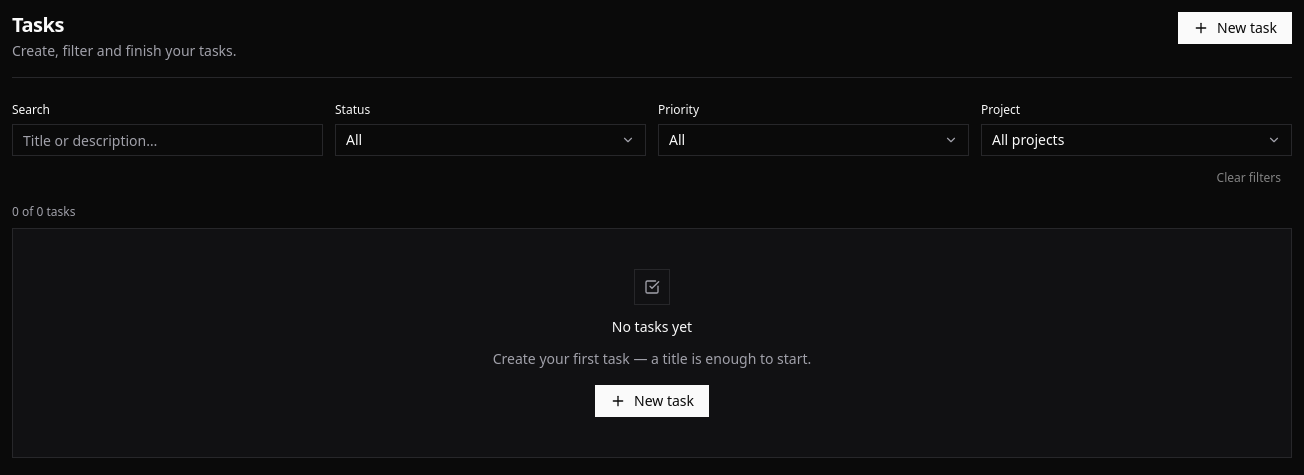
Test: TasksPage search debounce › ignores a stale response when two committed loads overlap
In the search field labelled "Search": [168, 140] box x1=12 y1=124 x2=323 y2=156, type "slow"
Wait 250 ms
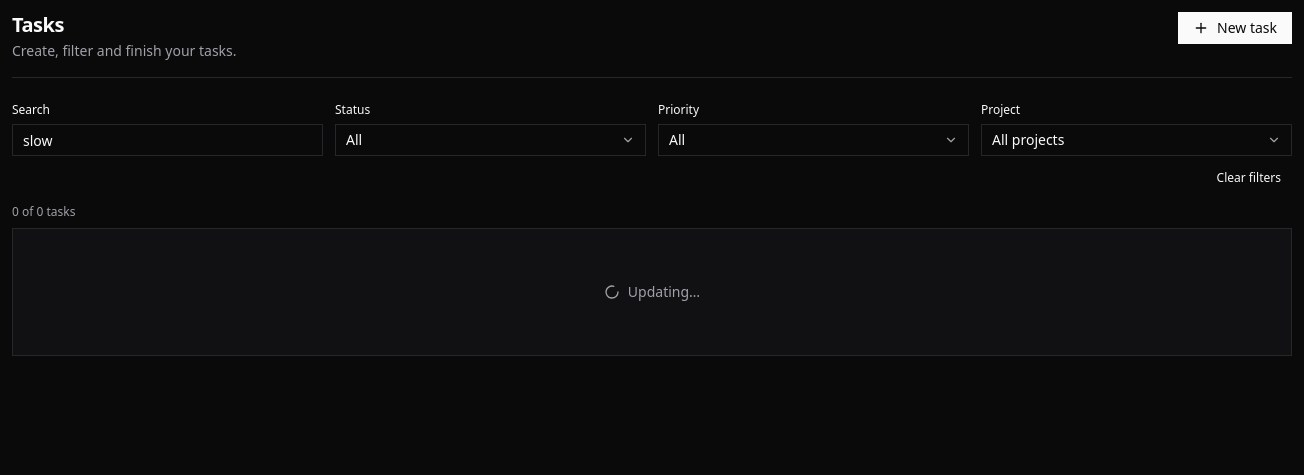
Replace the text in the search field labelled "Search" with "fast": [168, 140] box x1=12 y1=124 x2=323 y2=156
Wait 250 ms
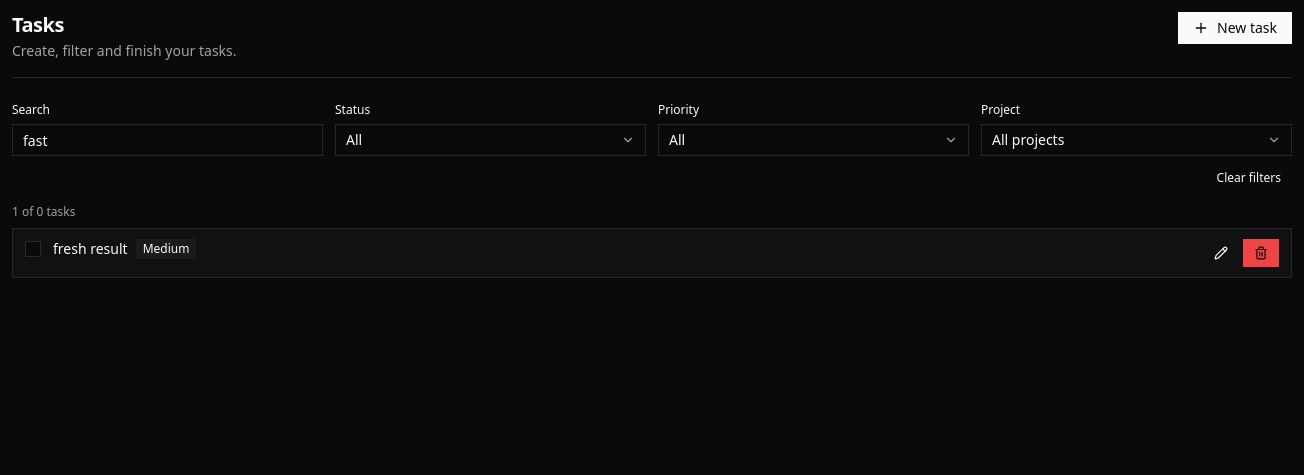
Expected: the text "fresh result" is shown, x1=53 y1=239 x2=128 y2=259
